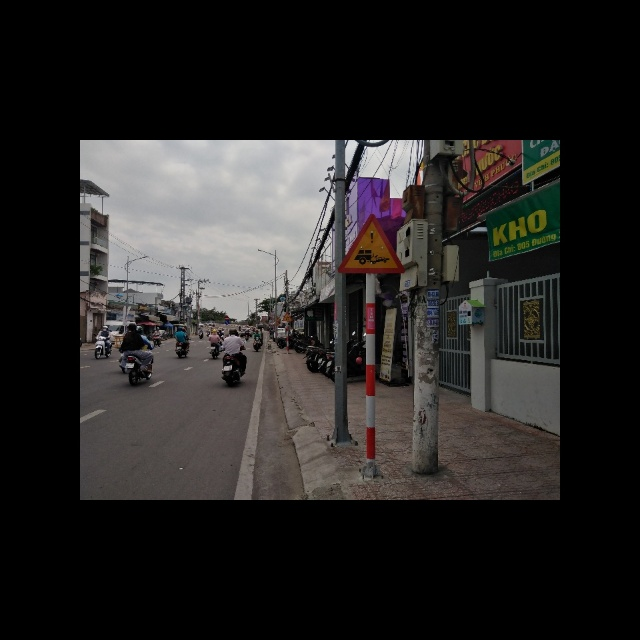Đoạn đường hay xảy ra tai nạn: (336, 215, 404, 274)
